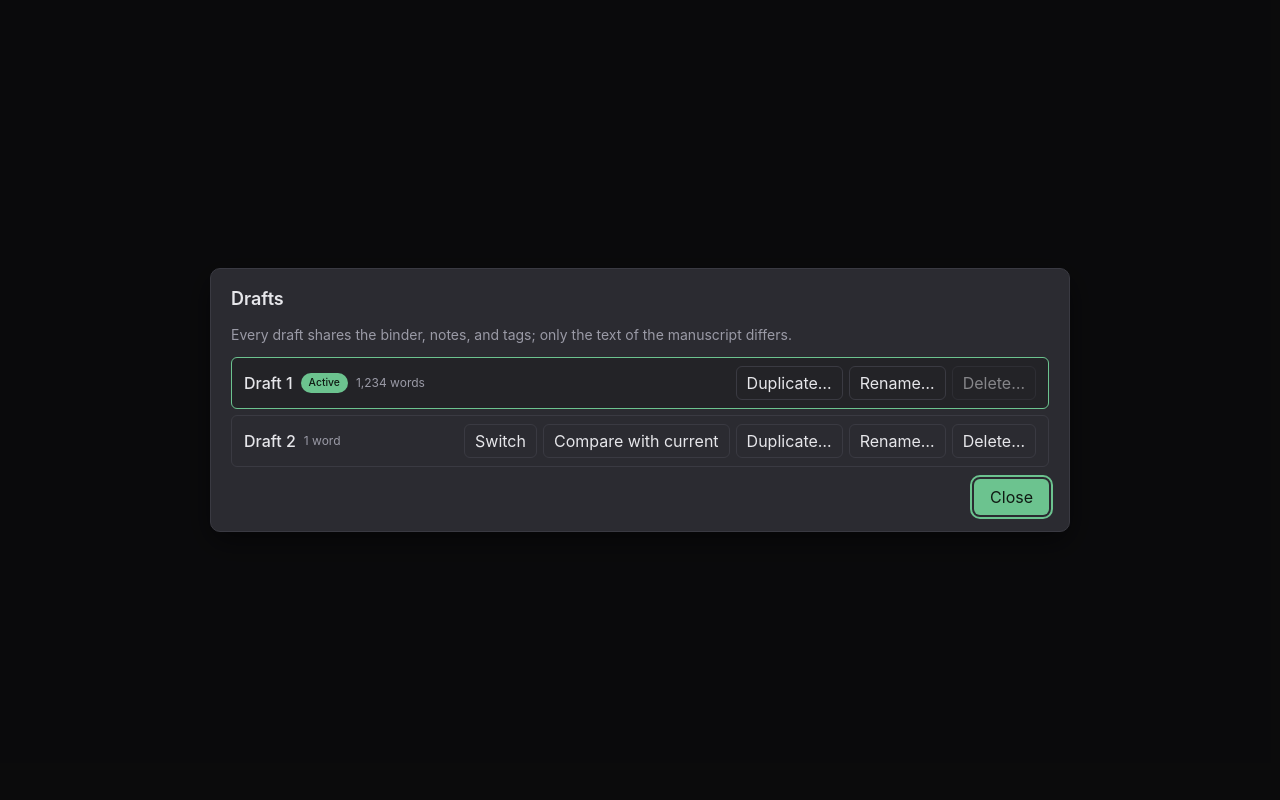
Scenario: DraftsDialog (F-8.5) › shows the cause when the comparison fails
The width and height of the screenshot is (1280, 800).
Click the button with aria-label "Compare Draft 2 with current".
click(636, 441)  # box [543,424,730,458]
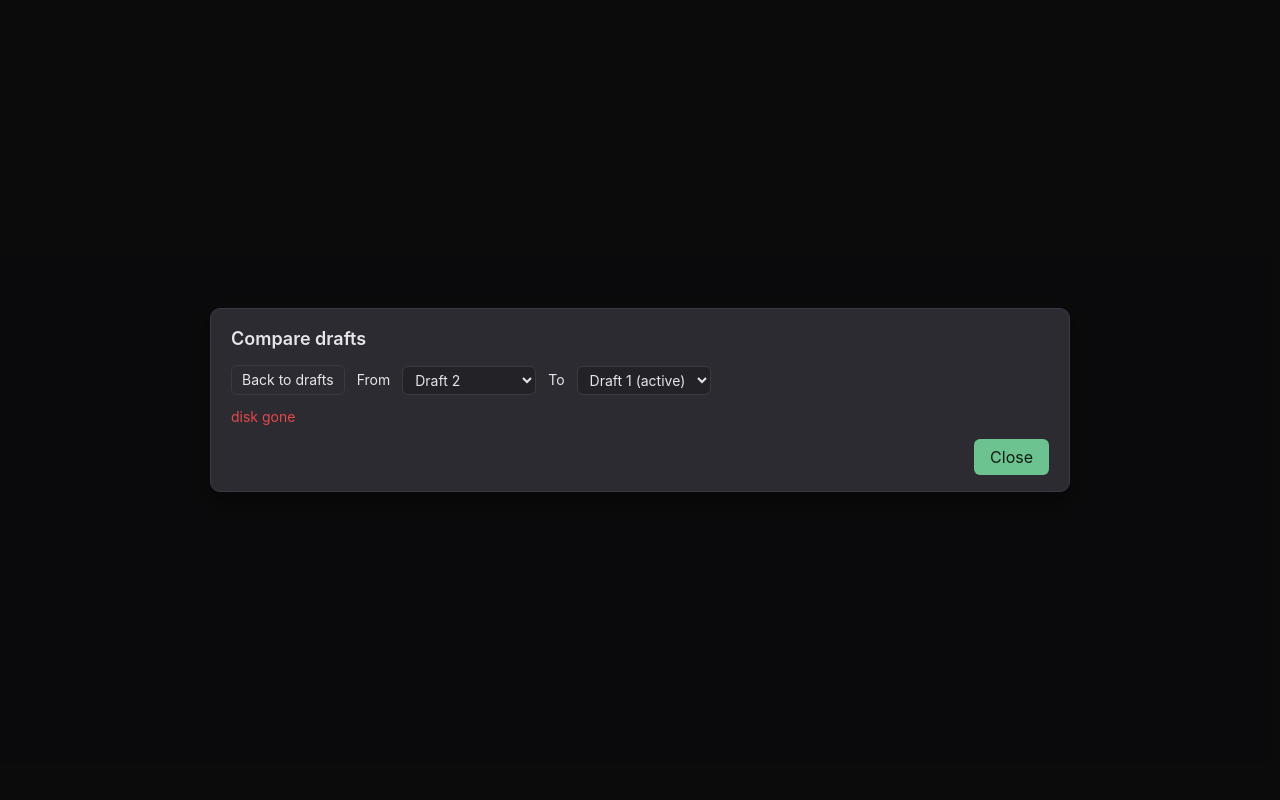
expect the message reads "disk gone": met, box [231,408,295,425]
